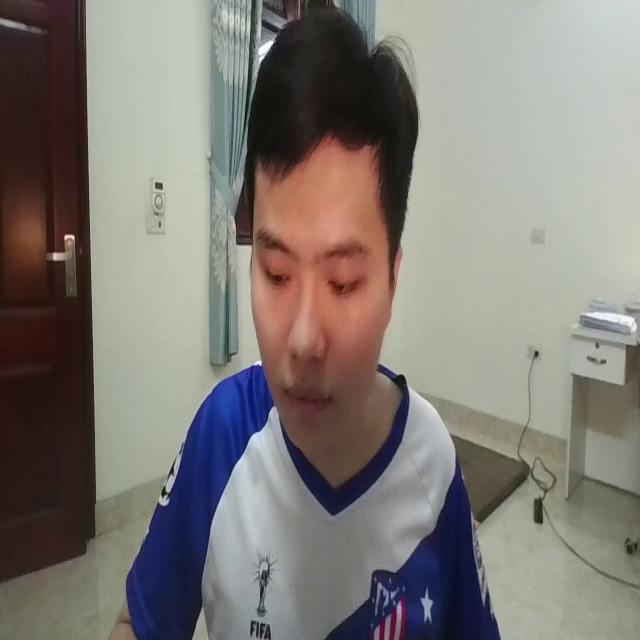student: (99, 6, 519, 640)
